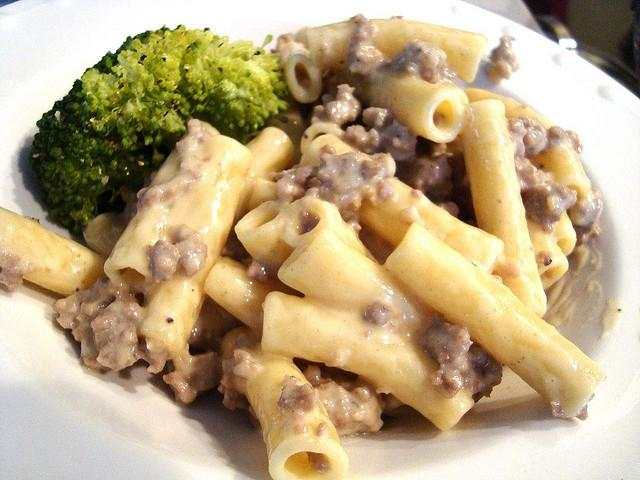broccoli: (25, 22, 291, 248)
